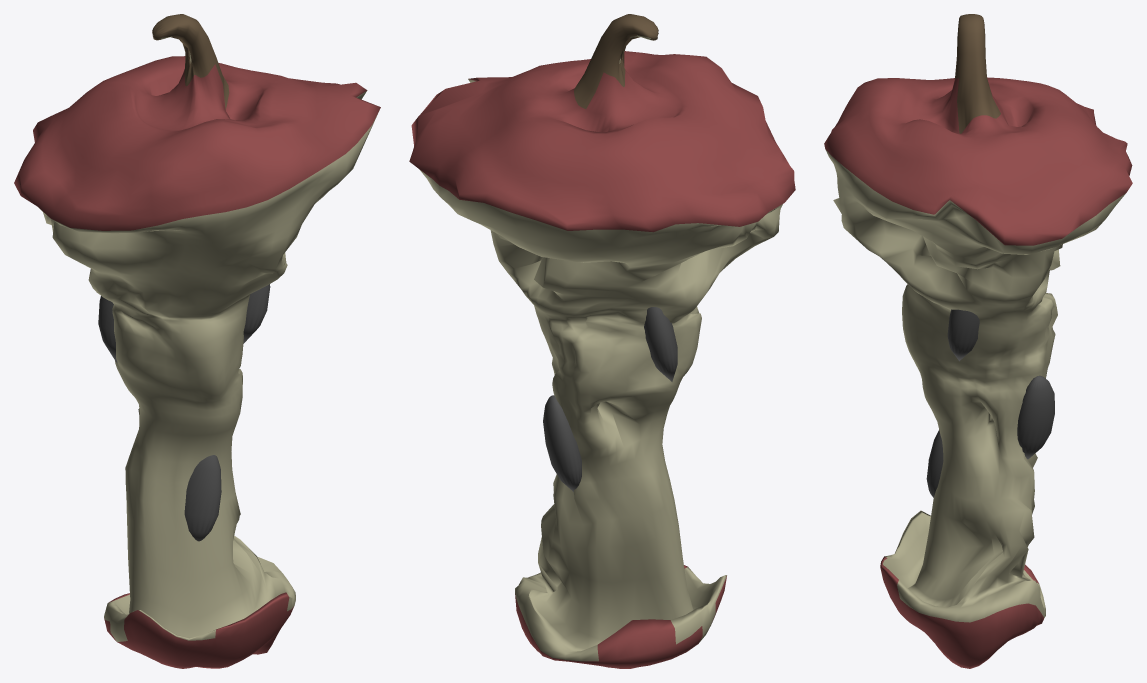
Rendered from RottenApple.fbx.
3 renders of one model, left to right at view 1: azimuth 30°, elevation 25°; view 2: azimuth 150°, elevation 25°; view 3: azimuth 270°, elevation 25°, orthographic. The views are drawn at different scales.
Parts seen in each view (by area): view 1: pCone5; view 2: pCone5; view 3: pCone5.
Part boxes in pixels (x1,y1,x2,y2): pCone5: [14, 14, 380, 668]; pCone5: [409, 14, 795, 668]; pCone5: [824, 14, 1132, 668].
Bounding box in the file's own units: 5.16 × 9.38 × 4.28.
